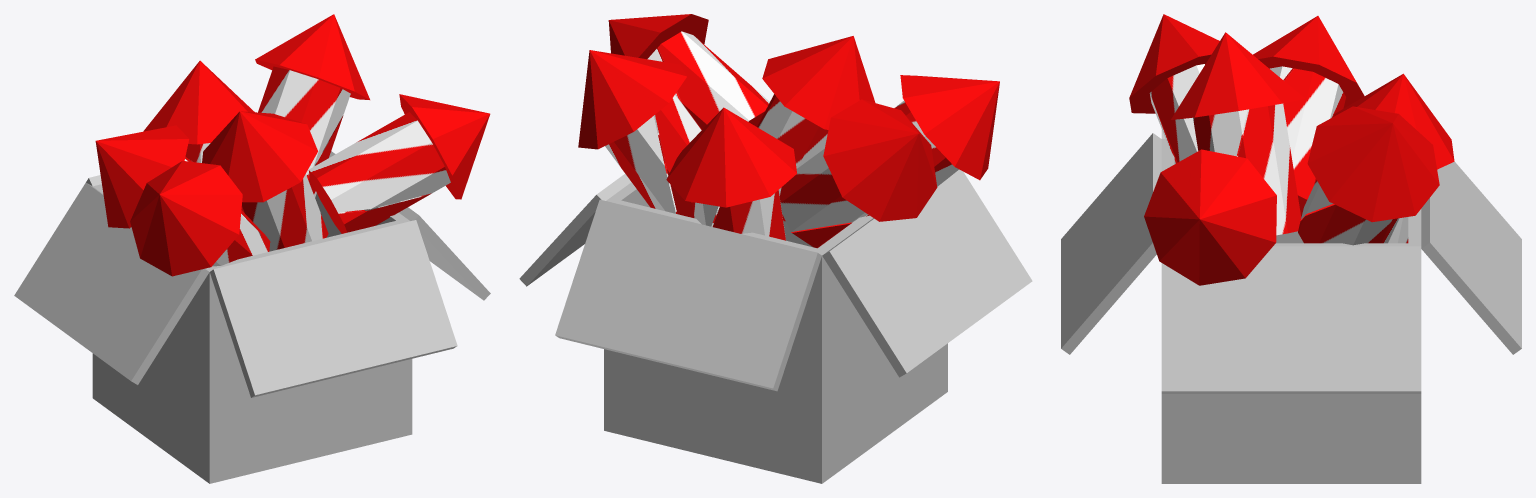
File: Fireworks_box.fbx
The picture shows the model from 3 angles, left to right: view 1: azimuth 30°, elevation 25°; view 2: azimuth 150°, elevation 25°; view 3: azimuth 270°, elevation 25°; orthographic projection. The views are drawn at different scales.
Parts seen in each view (by area): view 1: fireworks box, firework2, firework3, firework5, firework, firework4, firework1; view 2: fireworks box, firework4, firework, firework1, firework5, firework2, firework3; view 3: fireworks box, firework, firework2, firework5, firework4, firework3, firework1.
Boxes of the visible parts, x1,y1,x2,y2 form: fireworks box: (14, 151, 490, 483); firework2: (308, 94, 490, 233); firework3: (130, 160, 270, 276); firework5: (202, 111, 328, 251); firework: (255, 14, 369, 197); firework4: (95, 125, 192, 228); firework1: (143, 60, 254, 162); fireworks box: (519, 169, 1032, 483); firework4: (779, 99, 937, 248); firework: (578, 50, 719, 217); firework1: (666, 107, 796, 240); firework5: (757, 36, 875, 221); firework2: (608, 14, 769, 129); firework3: (852, 75, 999, 222); fireworks box: (1061, 129, 1521, 483); firework: (1298, 106, 1439, 245); firework2: (1144, 149, 1276, 285); firework5: (1171, 32, 1304, 235); firework4: (1253, 16, 1364, 216); firework3: (1129, 14, 1243, 163); firework1: (1332, 73, 1454, 243).
Size of the model in its own units: 372 by 319 by 355.
